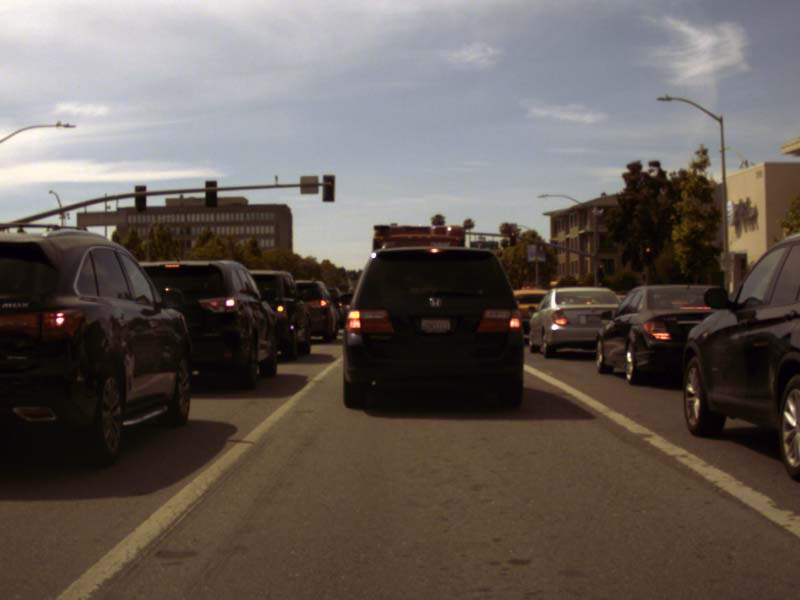Red: (644, 246, 651, 264), (510, 231, 515, 245), (598, 263, 603, 274)
